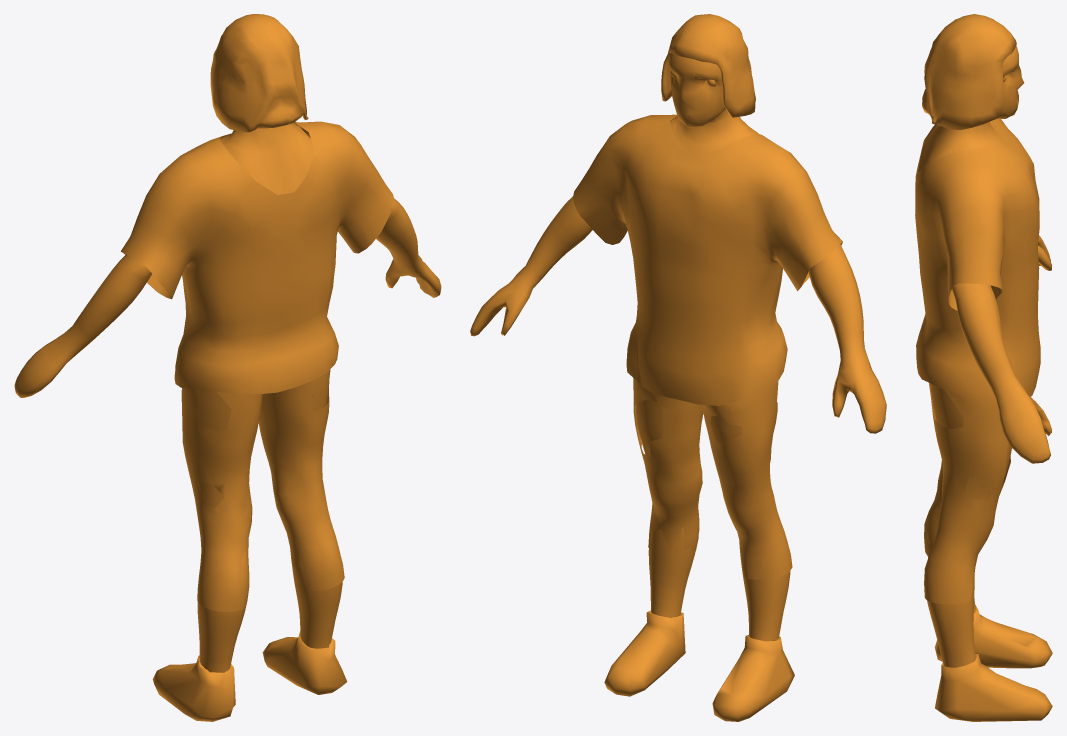
File: peasant.fbx
The picture shows the model from 3 angles, left to right: view 1: azimuth 30°, elevation 25°; view 2: azimuth 150°, elevation 25°; view 3: azimuth 270°, elevation 25°; orthographic projection. The views are drawn at different scales.
Visible parts, largest first — view 1: PeasantUnwrapedFinal.002; view 2: PeasantUnwrapedFinal.002; view 3: PeasantUnwrapedFinal.002.
Boxes of the visible parts, x1,y1,x2,y2 form: PeasantUnwrapedFinal.002: [14, 14, 441, 721]; PeasantUnwrapedFinal.002: [470, 14, 886, 721]; PeasantUnwrapedFinal.002: [915, 14, 1052, 721].
Size of the model in its own units: 108 by 169 by 31.31.
